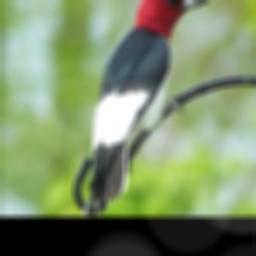Woodpecker: (79, 0, 212, 215)
